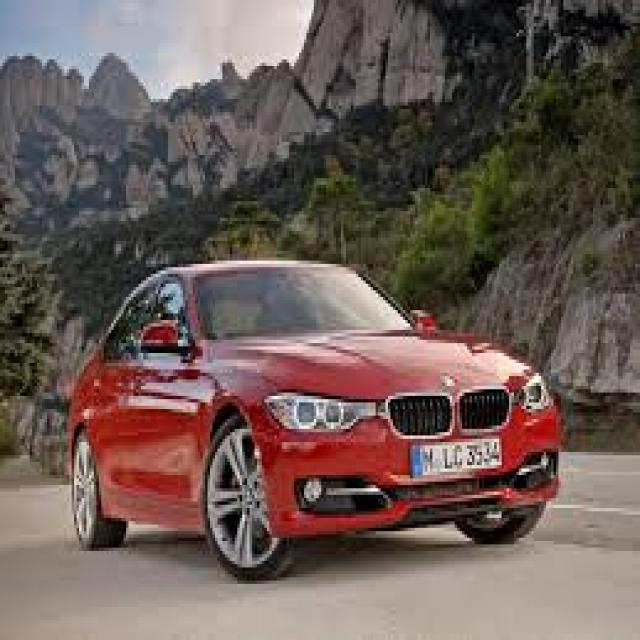Car: (68, 242, 568, 588)
